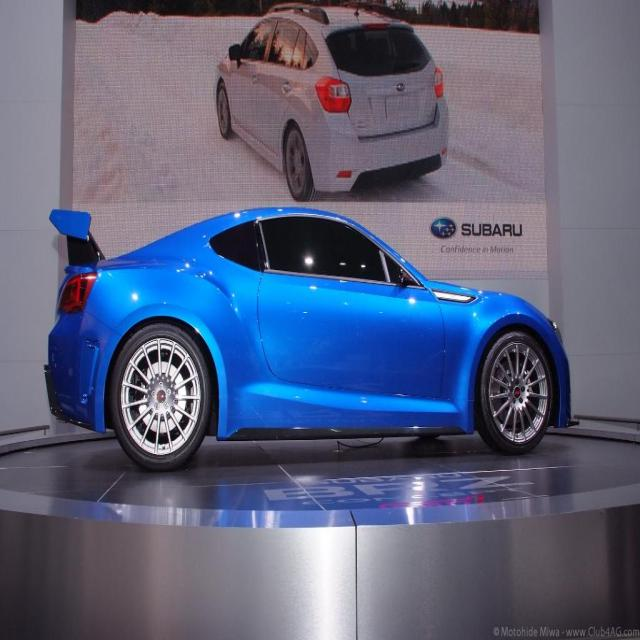car: (42, 203, 577, 467)
